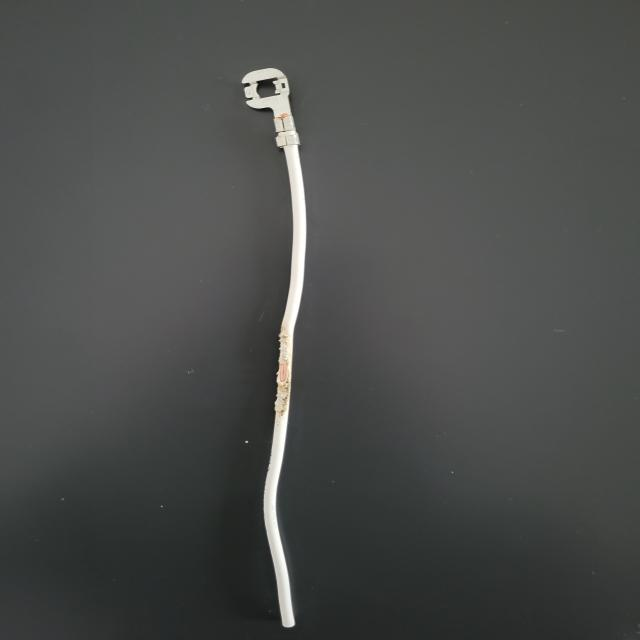defect: (254, 320, 321, 438)
